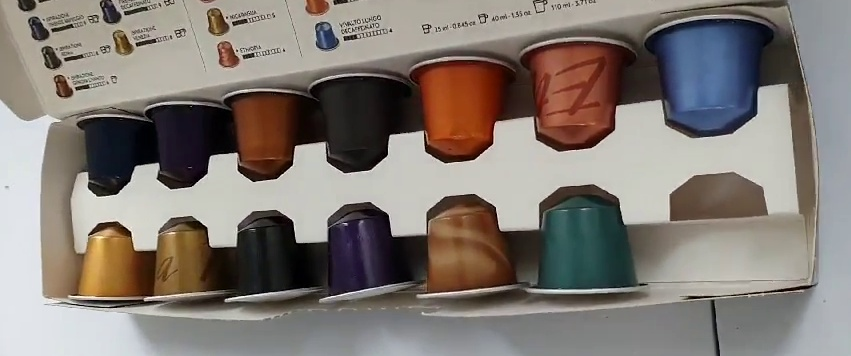capsule_1: (76, 111, 154, 201)
capsule_10: (230, 207, 323, 303)
capsule_11: (319, 208, 425, 301)
capsule_12: (417, 198, 534, 303)
capsule_13: (527, 190, 648, 299)
capsule_2: (140, 97, 230, 189)
capsule_3: (225, 87, 315, 180)
capsule_4: (308, 71, 415, 176)
capsule_5: (411, 56, 523, 157)
capsule_6: (520, 34, 641, 147)
capsule_7: (636, 14, 786, 133)
capsule_8: (68, 220, 157, 308)
capsule_9: (143, 217, 237, 302)
